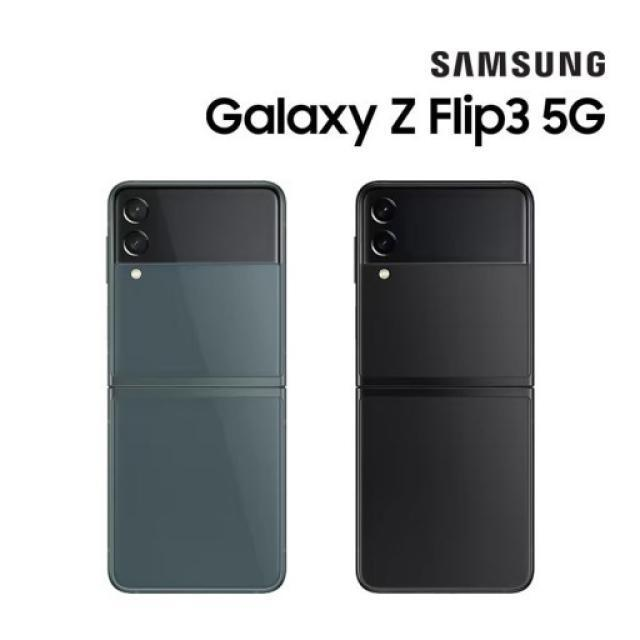phone: (352, 178, 536, 594), (106, 179, 286, 595)
